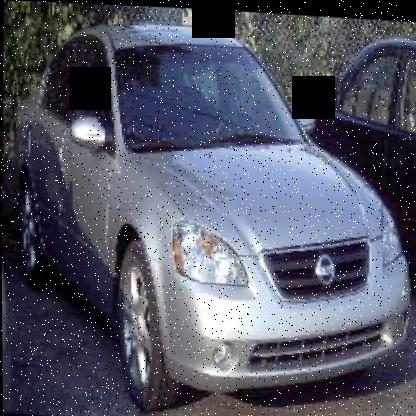not_emergency: (4, 17, 409, 415)
